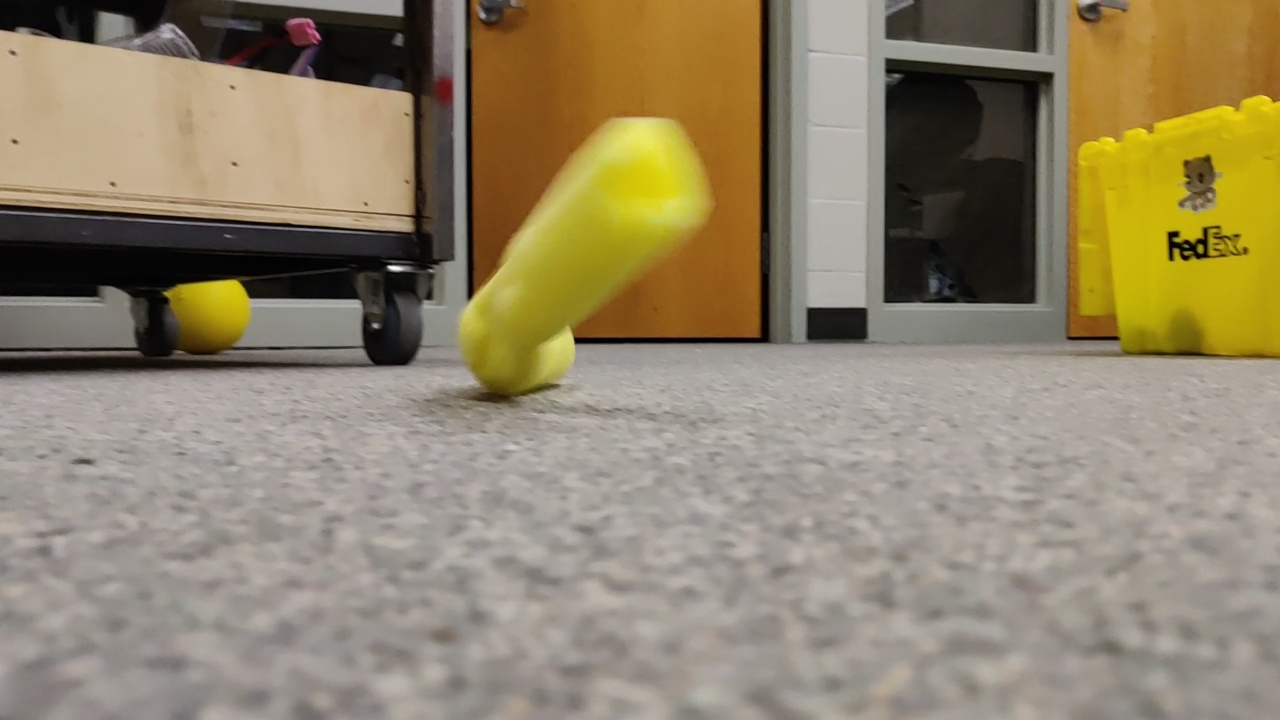Ball: (148, 278, 259, 355)
